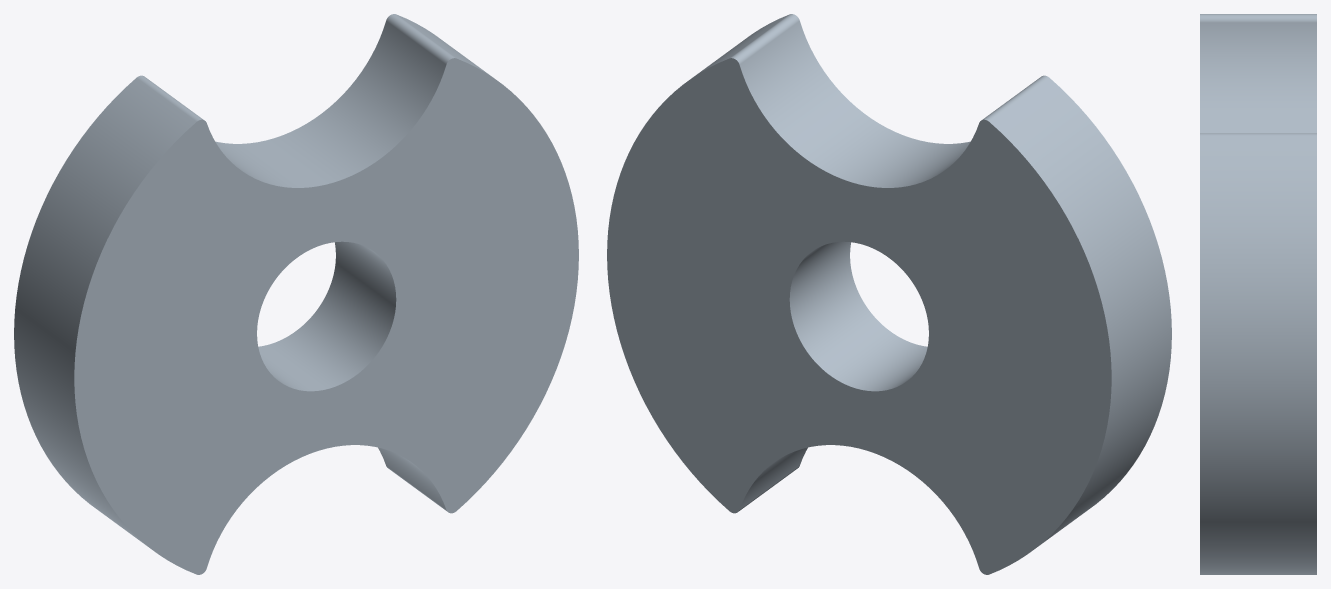
Rendered from inner_prop_2.obj.
3 views of the same model, side by side, from view 1: azimuth 30°, elevation 25°; view 2: azimuth 150°, elevation 25°; view 3: azimuth 270°, elevation 25° (orthographic). The views are drawn at different scales.
Parts seen in each view (by area): view 1: 1; view 2: 1; view 3: 1.
Part boxes in pixels (left/top/right/bottom): 1: left=14, top=14, right=578, bottom=574; 1: left=607, top=14, right=1171, bottom=574; 1: left=1200, top=14, right=1316, bottom=574.
Bounding box in the file's own units: 72.5 × 62.44 × 15.
